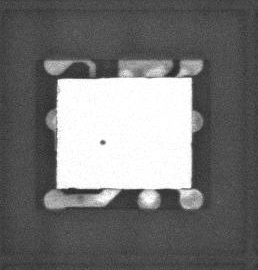DIE_INK: (93, 144, 104, 153)
